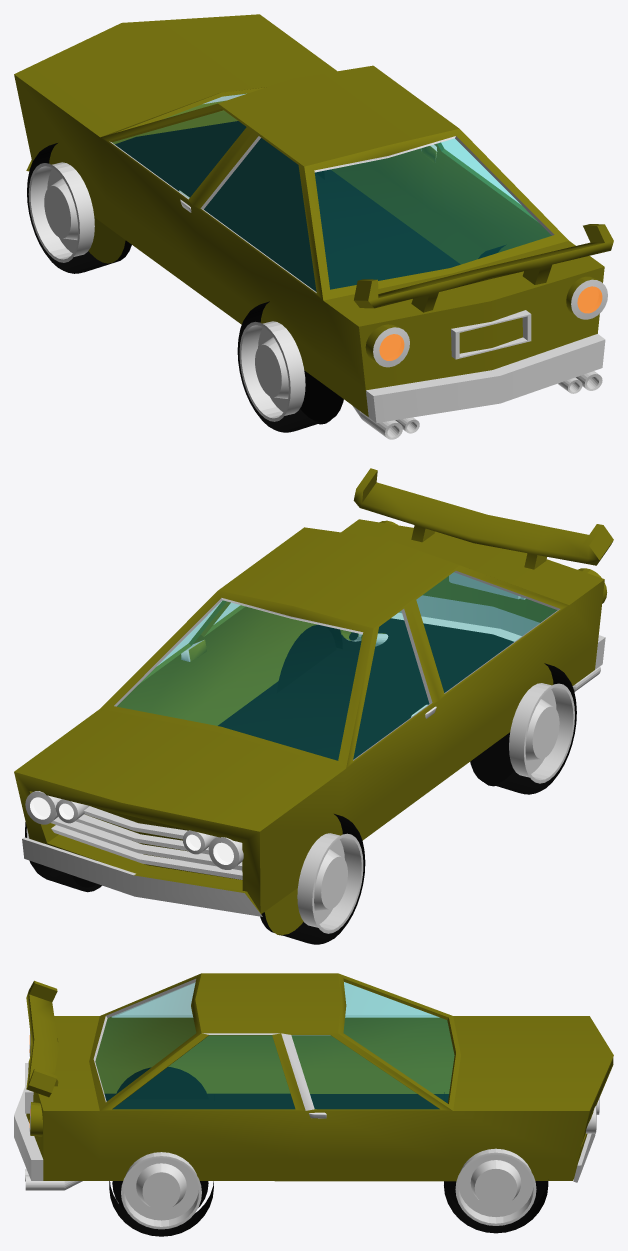
File: greenyellowLowPolyCar.glb
The picture shows the model from 3 angles, top to bottom: view 1: azimuth 30°, elevation 25°; view 2: azimuth 150°, elevation 25°; view 3: azimuth 270°, elevation 25°; orthographic projection. The views are drawn at different scales.
Visible parts, largest first — view 1: Cube; view 2: Cube; view 3: Cube.
Part boxes in pixels (x1=…): Cube: x1=14, y1=14, x2=613, y2=439; Cube: x1=14, y1=468, x2=613, y2=944; Cube: x1=14, y1=973, x2=613, y2=1236.
Bounding box in the file's own units: 6.47 × 5.08 × 14.76.
